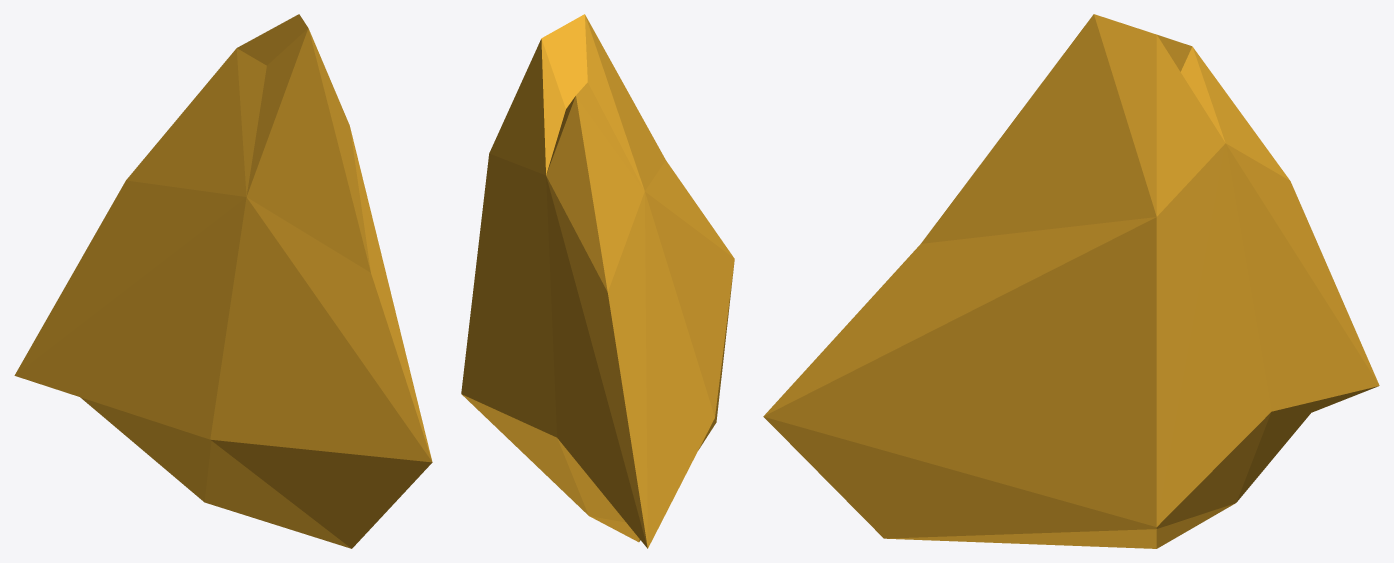
The model's file is SM_Topaz_Chipped.fbx.
3 renders of one model, left to right at view 1: azimuth 30°, elevation 25°; view 2: azimuth 150°, elevation 25°; view 3: azimuth 270°, elevation 25°, orthographic. The views are drawn at different scales.
Parts seen in each view (by area): view 1: SM_Topaz_Chipped; view 2: SM_Topaz_Chipped; view 3: SM_Topaz_Chipped.
Part boxes in pixels (bbox=[...]): SM_Topaz_Chipped: bbox=[14, 14, 432, 548]; SM_Topaz_Chipped: bbox=[461, 14, 734, 548]; SM_Topaz_Chipped: bbox=[763, 14, 1379, 548].
Size of the model in its own units: 10.05 by 16.09 by 16.76.
